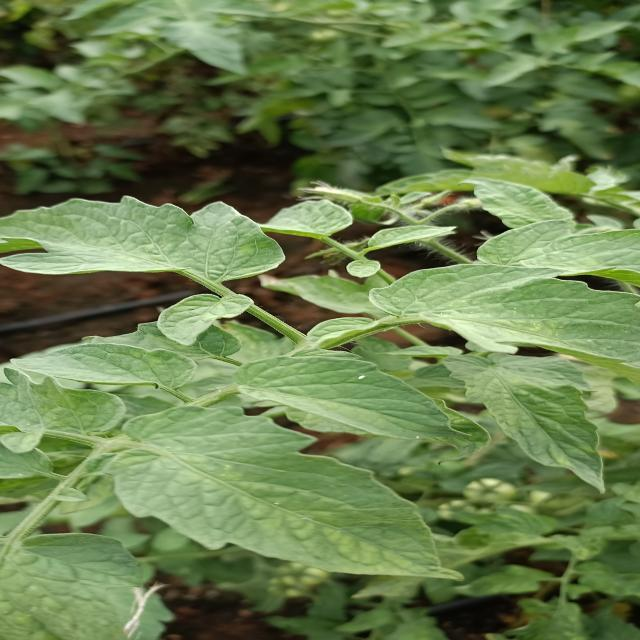Healthy Leaf: (100, 408, 448, 574), (360, 266, 640, 376), (215, 355, 475, 458), (1, 197, 292, 280)
